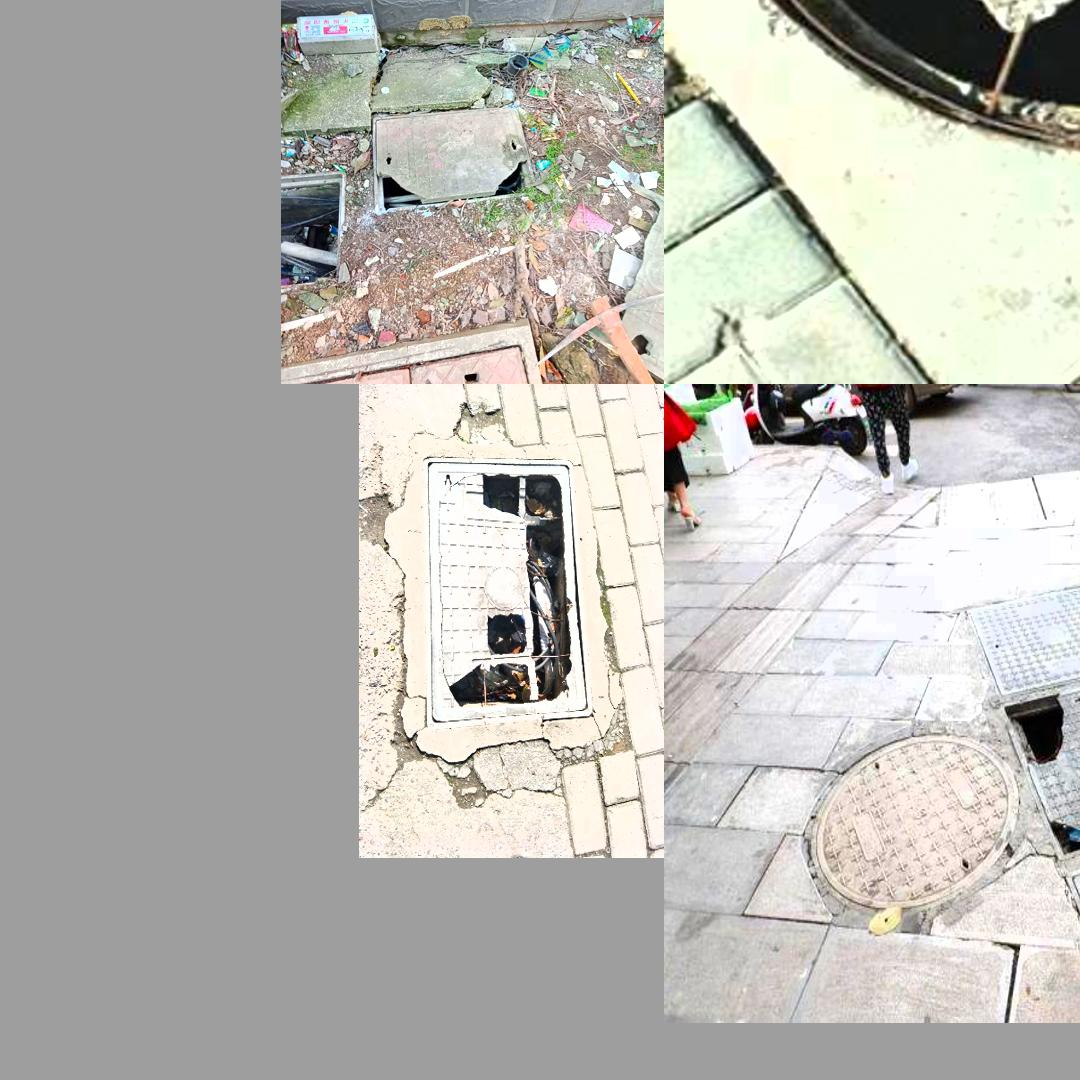broke: (677, 0, 1080, 131), (423, 456, 592, 725), (371, 105, 540, 215), (998, 678, 1080, 861)
